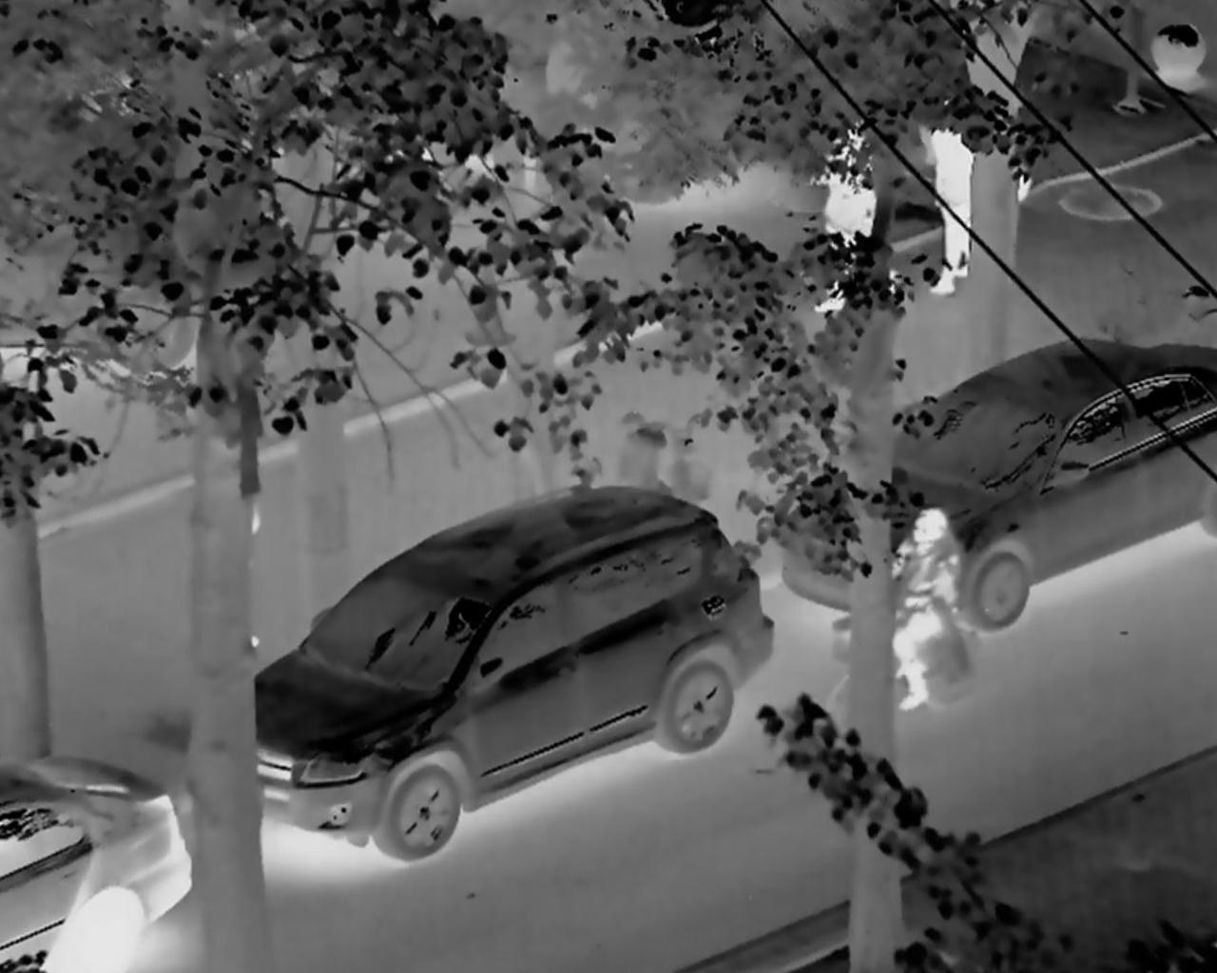person: (885, 499, 1006, 724), (812, 97, 880, 330), (918, 85, 989, 301)
